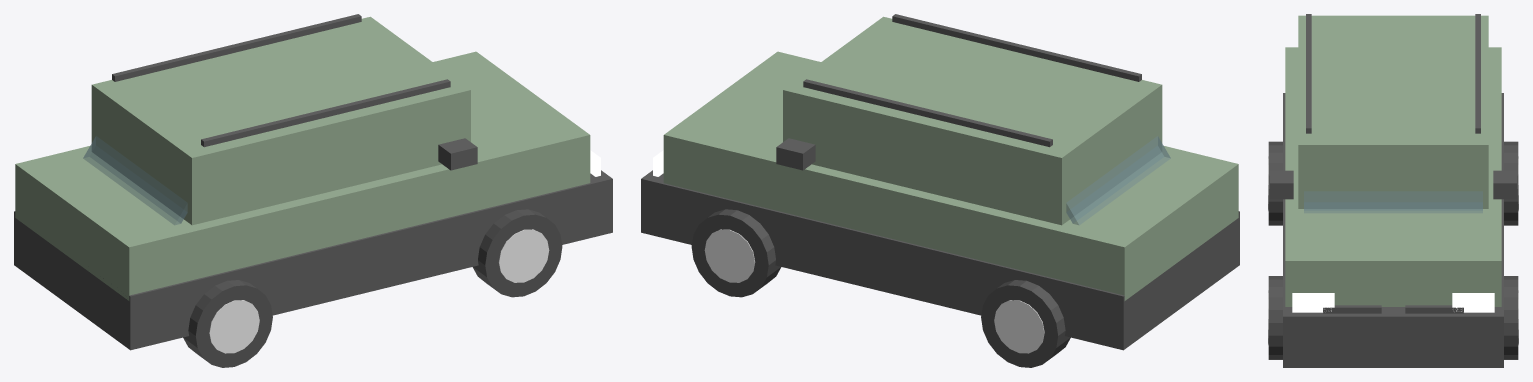
The model's file is pontiac_aztek.glb.
The picture shows the model from 3 angles, left to right: view 1: azimuth 30°, elevation 25°; view 2: azimuth 150°, elevation 25°; view 3: azimuth 270°, elevation 25°; orthographic projection. The views are drawn at different scales.
Visible parts, largest first — view 1: Walter_Aztek_cabin, Walter_Aztek_body, Walter_Aztek_lower, Walter_Aztek_wf_r_tire, Walter_Aztek_wr_r_tire, Walter_Aztek_rear_glass, Walter_Aztek_rail_r, Walter_Aztek_rail_l, Walter_Aztek_wr_r_rim, Walter_Aztek_wf_r_rim, Walter_Aztek_sm_r; view 2: Walter_Aztek_cabin, Walter_Aztek_body, Walter_Aztek_lower, Walter_Aztek_wf_l_tire, Walter_Aztek_wr_l_tire, Walter_Aztek_rear_glass, Walter_Aztek_rail_l, Walter_Aztek_rail_r, Walter_Aztek_wr_l_rim, Walter_Aztek_wf_l_rim, Walter_Aztek_sm_l; view 3: Walter_Aztek_cabin, Walter_Aztek_body, Walter_Aztek_lower, Walter_Aztek_windshield, Walter_Aztek_wf_l_tire, Walter_Aztek_wf_r_tire, Walter_Aztek_wr_l_tire, Walter_Aztek_wr_r_tire, Walter_Aztek_hl_l, Walter_Aztek_hl_r, Walter_Aztek_rail_l, Walter_Aztek_rail_r (+4 smaller).
Part boxes in pixels (bbox=[...]): Walter_Aztek_cabin: bbox=[91, 16, 470, 225]; Walter_Aztek_body: bbox=[15, 51, 590, 300]; Walter_Aztek_lower: bbox=[14, 170, 612, 350]; Walter_Aztek_wf_r_tire: bbox=[472, 209, 562, 297]; Walter_Aztek_wr_r_tire: bbox=[183, 280, 272, 367]; Walter_Aztek_rear_glass: bbox=[83, 136, 187, 224]; Walter_Aztek_rail_r: bbox=[201, 79, 450, 147]; Walter_Aztek_rail_l: bbox=[112, 14, 361, 81]; Walter_Aztek_wr_r_rim: bbox=[209, 300, 259, 353]; Walter_Aztek_wf_r_rim: bbox=[498, 229, 549, 282]; Walter_Aztek_sm_r: bbox=[438, 138, 477, 170]; Walter_Aztek_cabin: bbox=[783, 16, 1162, 225]; Walter_Aztek_body: bbox=[663, 51, 1238, 300]; Walter_Aztek_lower: bbox=[641, 170, 1239, 350]; Walter_Aztek_wf_l_tire: bbox=[691, 209, 781, 297]; Walter_Aztek_wr_l_tire: bbox=[981, 280, 1070, 367]; Walter_Aztek_rear_glass: bbox=[1066, 136, 1170, 224]; Walter_Aztek_rail_l: bbox=[803, 79, 1052, 147]; Walter_Aztek_rail_r: bbox=[892, 14, 1141, 81]; Walter_Aztek_wr_l_rim: bbox=[994, 300, 1044, 353]; Walter_Aztek_wf_l_rim: bbox=[704, 229, 755, 282]; Walter_Aztek_sm_l: bbox=[776, 138, 815, 170]; Walter_Aztek_cabin: bbox=[1298, 15, 1488, 208]; Walter_Aztek_body: bbox=[1285, 47, 1501, 306]; Walter_Aztek_lower: bbox=[1283, 93, 1503, 367]; Walter_Aztek_windshield: bbox=[1304, 191, 1482, 212]; Walter_Aztek_wf_l_tire: bbox=[1504, 276, 1518, 359]; Walter_Aztek_wf_r_tire: bbox=[1268, 276, 1282, 359]; Walter_Aztek_wr_l_tire: bbox=[1504, 141, 1518, 225]; Walter_Aztek_wr_r_tire: bbox=[1268, 141, 1282, 225]; Walter_Aztek_hl_l: bbox=[1452, 293, 1494, 312]; Walter_Aztek_hl_r: bbox=[1292, 293, 1334, 312]; Walter_Aztek_rail_l: bbox=[1475, 14, 1480, 133]; Walter_Aztek_rail_r: bbox=[1306, 14, 1311, 133].
Bounding box in the file's own units: 4.5 × 1.9 × 2.13.
